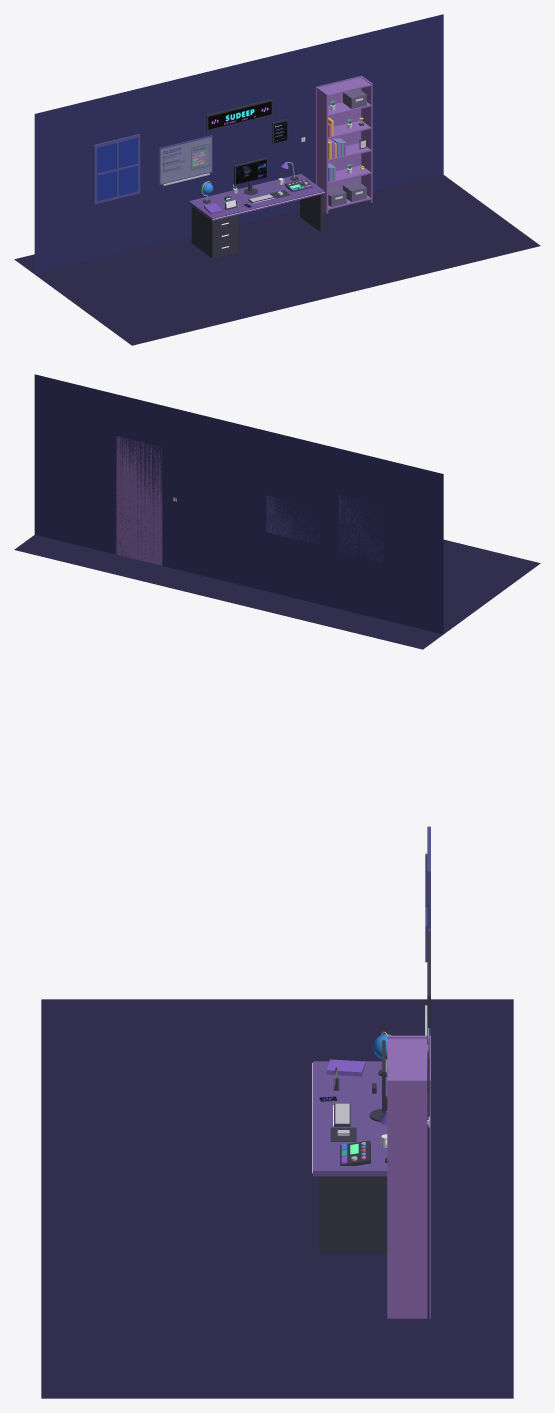
Rendered from portfolio_room.glb.
3 views of the same model, one above another, from view 1: azimuth 30°, elevation 25°; view 2: azimuth 150°, elevation 25°; view 3: azimuth 270°, elevation 25° (orthographic). The views are drawn at different scales.
Parts seen in each view (by area): view 1: Back_Wall, Floor, Desk_Top, Window_Glass, Whiteboard, Desk_Drawers, Shelf_Back, Shelf_Side_L, Shelf_Side_R, Neon_Sign, Window_Frame, Desk_Leg_R (+3 smaller); view 2: Back_Wall, Floor, Shelf_Back, Window_Frame, Whiteboard_Frame; view 3: Floor, Shelf_Side_R, Desk_Top, Desk_Leg_R, Shelf_Board_5.
Boxes of the visible parts, left/top/right/bottom form: Back_Wall: left=34, top=14, right=443, bottom=274; Floor: left=14, top=174, right=540, bottom=345; Desk_Top: left=188, top=174, right=324, bottom=220; Window_Glass: left=97, top=138, right=137, bottom=201; Whiteboard: left=160, top=137, right=211, bottom=183; Desk_Drawers: left=191, top=206, right=237, bottom=258; Shelf_Back: left=315, top=75, right=361, bottom=189; Shelf_Side_L: left=316, top=87, right=328, bottom=213; Shelf_Side_R: left=361, top=76, right=372, bottom=202; Neon_Sign: left=208, top=101, right=271, bottom=129; Window_Frame: left=93, top=134, right=140, bottom=204; Desk_Leg_R: left=300, top=194, right=322, bottom=231; Back_Wall: left=34, top=374, right=443, bottom=634; Floor: left=14, top=535, right=540, bottom=649; Shelf_Back: left=116, top=436, right=162, bottom=565; Window_Frame: left=338, top=494, right=384, bottom=562; Whiteboard_Frame: left=266, top=495, right=318, bottom=544; Floor: left=41, top=999, right=513, bottom=1398; Shelf_Side_R: left=387, top=1079, right=427, bottom=1318; Desk_Top: left=313, top=1061, right=387, bottom=1176; Desk_Leg_R: left=318, top=1176, right=387, bottom=1253; Shelf_Board_5: left=387, top=1038, right=427, bottom=1079.
Bounding box in the file's own units: 8 × 3 × 4.
43 materials, 5 textured.
